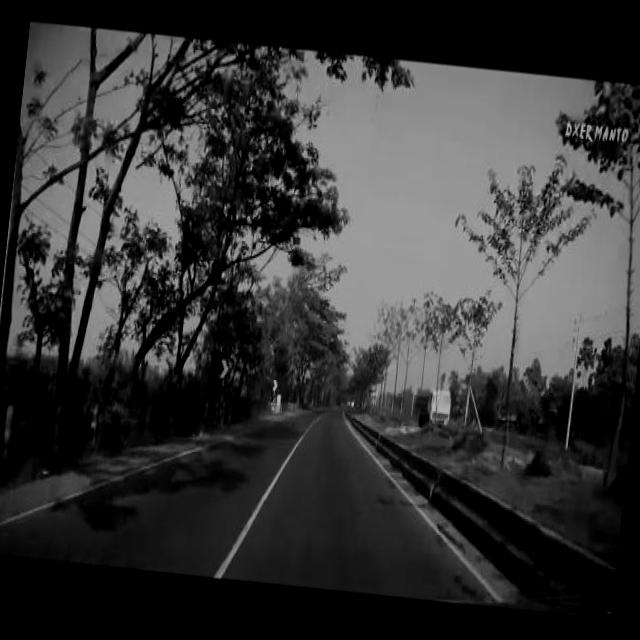truck: (408, 382, 454, 430)
